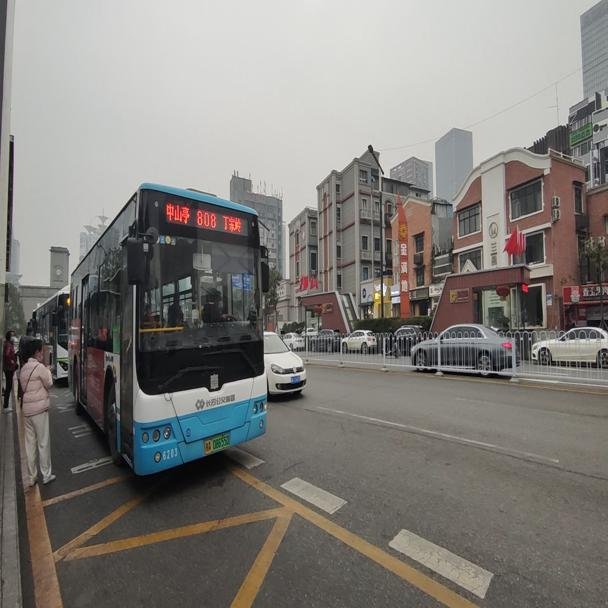bus: (68, 180, 271, 477), (25, 283, 71, 382)
screen: (192, 203, 220, 229)
